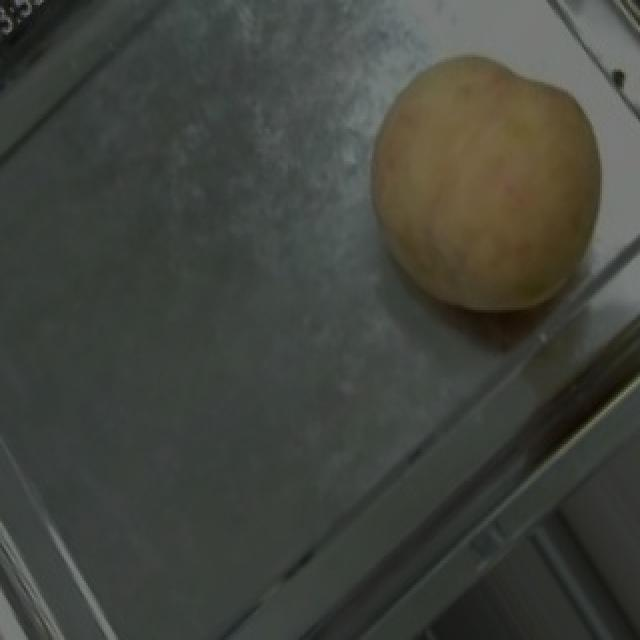Fruit: (326, 18, 640, 358)
